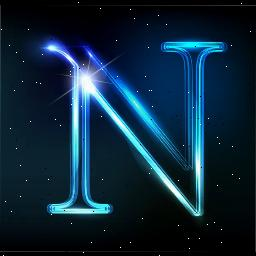n: (37, 33, 233, 227)
